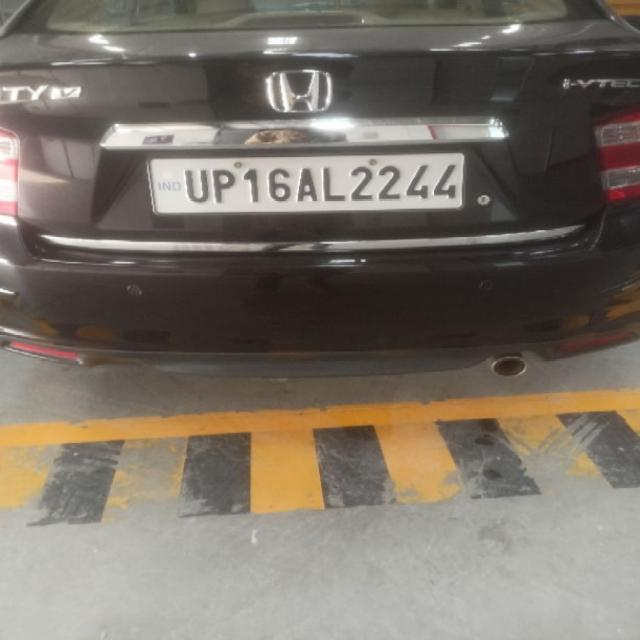license_plate: (145, 150, 468, 216)
